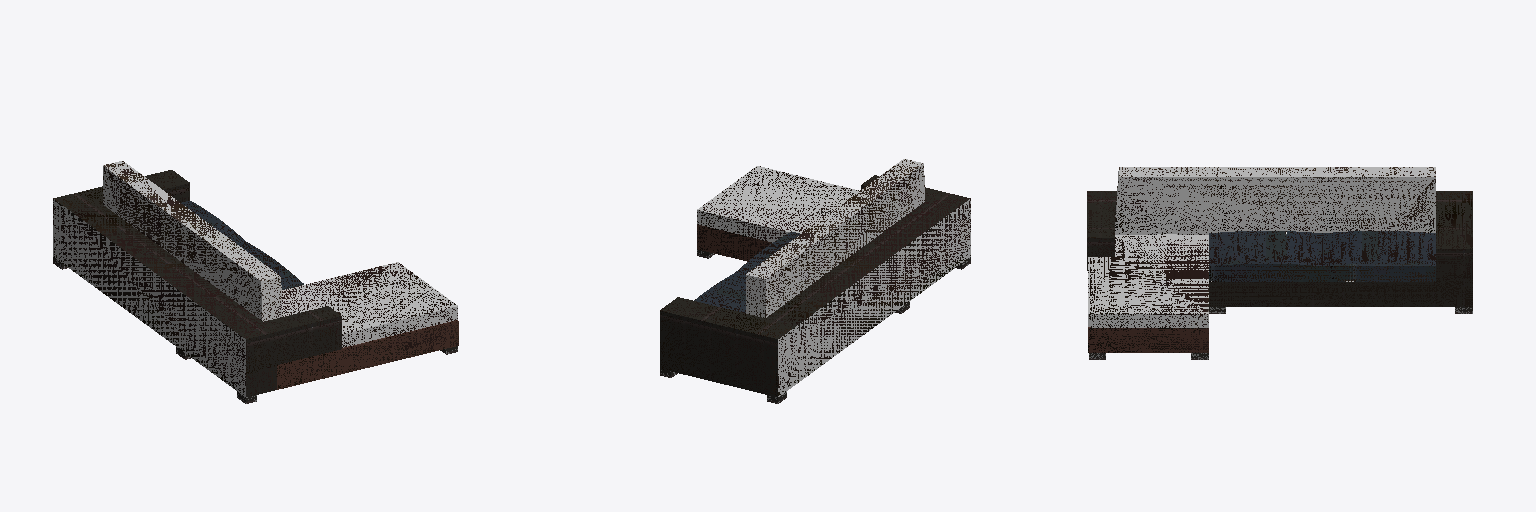
The picture shows the model from 3 angles: view 1: azimuth 30°, elevation 25°; view 2: azimuth 150°, elevation 25°; view 3: azimuth 270°, elevation 25°; orthographic projection.
Visible parts, largest first — view 1: mesh7_mesh7-geometry, mesh6_mesh6-geometry, mesh4_mesh4-geometry, mesh5_mesh5-geometry, mesh1_mesh1-geometry; view 2: mesh7_mesh7-geometry, mesh6_mesh6-geometry, mesh4_mesh4-geometry, mesh1_mesh1-geometry, mesh5_mesh5-geometry; view 3: mesh6_mesh6-geometry, mesh7_mesh7-geometry, mesh1_mesh1-geometry, mesh4_mesh4-geometry, mesh5_mesh5-geometry.
Part boxes in pixels (x1,y1,x2,y2): mesh7_mesh7-geometry: (53, 170, 341, 403); mesh6_mesh6-geometry: (103, 161, 282, 321); mesh4_mesh4-geometry: (282, 262, 457, 347); mesh5_mesh5-geometry: (277, 320, 458, 389); mesh1_mesh1-geometry: (181, 201, 303, 289); mesh7_mesh7-geometry: (660, 175, 970, 403); mesh6_mesh6-geometry: (746, 159, 924, 317); mesh4_mesh4-geometry: (697, 166, 858, 242); mesh1_mesh1-geometry: (694, 231, 799, 312); mesh5_mesh5-geometry: (697, 224, 771, 261); mesh6_mesh6-geometry: (1115, 167, 1435, 234); mesh7_mesh7-geometry: (1087, 191, 1472, 313); mesh1_mesh1-geometry: (1209, 231, 1435, 281); mesh4_mesh4-geometry: (1088, 234, 1208, 327); mesh5_mesh5-geometry: (1088, 327, 1208, 352).
Bounding box in the file's own units: 0.5222 × 0.2437 × 0.8173.
66 materials, 52 textured.